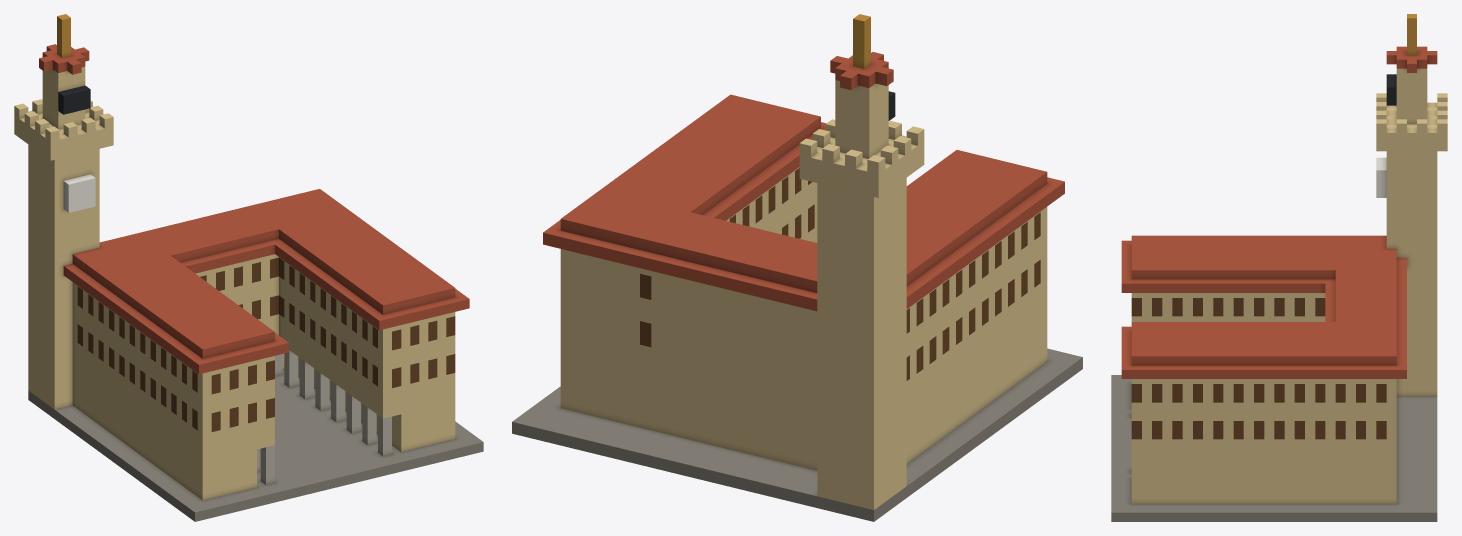
Rendered from w_uffizi.glb.
The picture shows the model from 3 angles, left to right: view 1: azimuth 30°, elevation 25°; view 2: azimuth 150°, elevation 25°; view 3: azimuth 270°, elevation 25°; orthographic projection. The views are drawn at different scales.
Parts seen in each view (by area): view 1: w_uffizi_body; view 2: w_uffizi_body; view 3: w_uffizi_body.
Part boxes in pixels (x1,y1,x2,y2): w_uffizi_body: (14,14,483,521); w_uffizi_body: (512,14,1082,521); w_uffizi_body: (1111,14,1447,521).
Size of the model in its own units: 2.06 by 2.56 by 2.06.
1 material, 1 textured.
